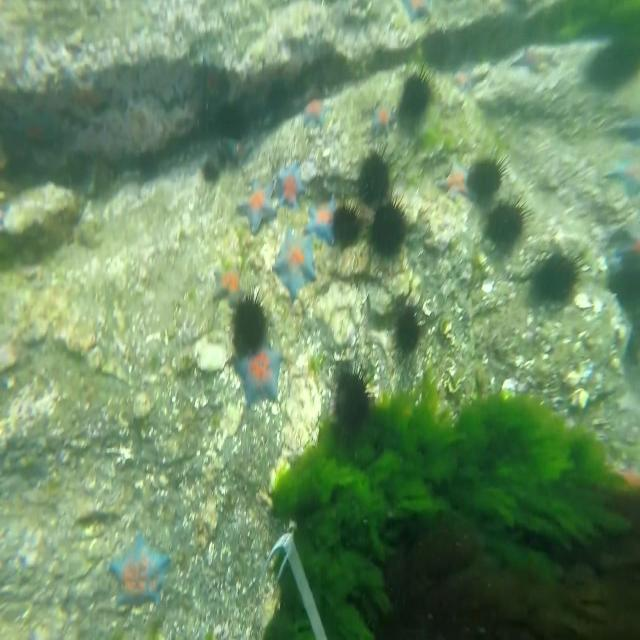echinus: (330, 352, 377, 443), (229, 285, 272, 357), (535, 248, 588, 306), (586, 40, 640, 96), (369, 189, 412, 258), (484, 192, 531, 251), (358, 138, 395, 205), (465, 151, 511, 202), (398, 62, 436, 123), (330, 192, 368, 251), (392, 298, 426, 362), (608, 261, 640, 311), (426, 24, 456, 75), (214, 101, 250, 142), (267, 73, 291, 115), (137, 146, 161, 181), (608, 225, 635, 248), (202, 159, 221, 185)
starfish: (108, 529, 174, 611), (232, 334, 284, 409), (271, 226, 318, 306), (55, 62, 110, 121), (234, 172, 280, 235), (436, 154, 479, 205), (302, 192, 339, 247), (211, 257, 248, 310), (274, 159, 308, 211), (603, 156, 640, 201), (511, 44, 562, 76), (193, 52, 227, 96), (226, 130, 256, 166), (450, 59, 480, 95), (300, 94, 329, 129), (371, 98, 395, 138), (615, 109, 640, 146), (399, 0, 435, 25)
